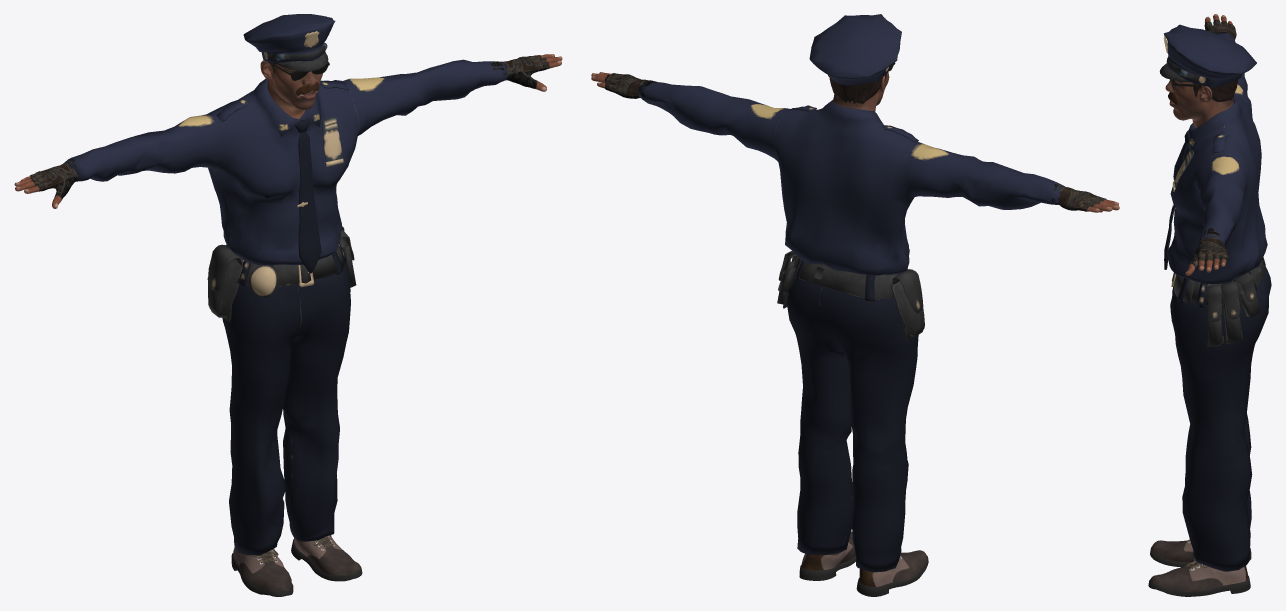
File: policeOfficer2.obj
The picture shows the model from 3 angles, left to right: view 1: azimuth 30°, elevation 25°; view 2: azimuth 150°, elevation 25°; view 3: azimuth 270°, elevation 25°; orthographic projection. The views are drawn at different scales.
Parts seen in each view (by area): view 1: Bottoms, Tops, Shoes, Hats, Body, Gloves; view 2: Bottoms, Tops, Hats, Shoes, Gloves, Body, Hair; view 3: Bottoms, Tops, Hats, Shoes, Body, Gloves, Hair.
Boxes of the visible parts, x1,y1,x2,y2 form: Bottoms: (207, 226, 356, 555); Tops: (64, 59, 508, 273); Shoes: (231, 535, 362, 596); Hats: (243, 14, 335, 71); Body: (14, 54, 562, 261); Gloves: (30, 55, 549, 199); Bottoms: (777, 251, 924, 572); Tops: (637, 80, 1064, 275); Hats: (809, 14, 901, 85); Shoes: (799, 531, 928, 596); Gloves: (604, 73, 1106, 211); Body: (591, 72, 1119, 212); Hair: (829, 74, 886, 104); Bottoms: (1170, 257, 1271, 571); Tops: (1164, 32, 1267, 283); Hats: (1159, 24, 1256, 87); Shoes: (1148, 539, 1251, 596); Body: (1165, 14, 1233, 284); Gloves: (1189, 20, 1236, 269); Hair: (1193, 80, 1237, 101).
Size of the model in its own units: 194 by 190 by 39.19.
Materials: 1 (1 with a texture image).
